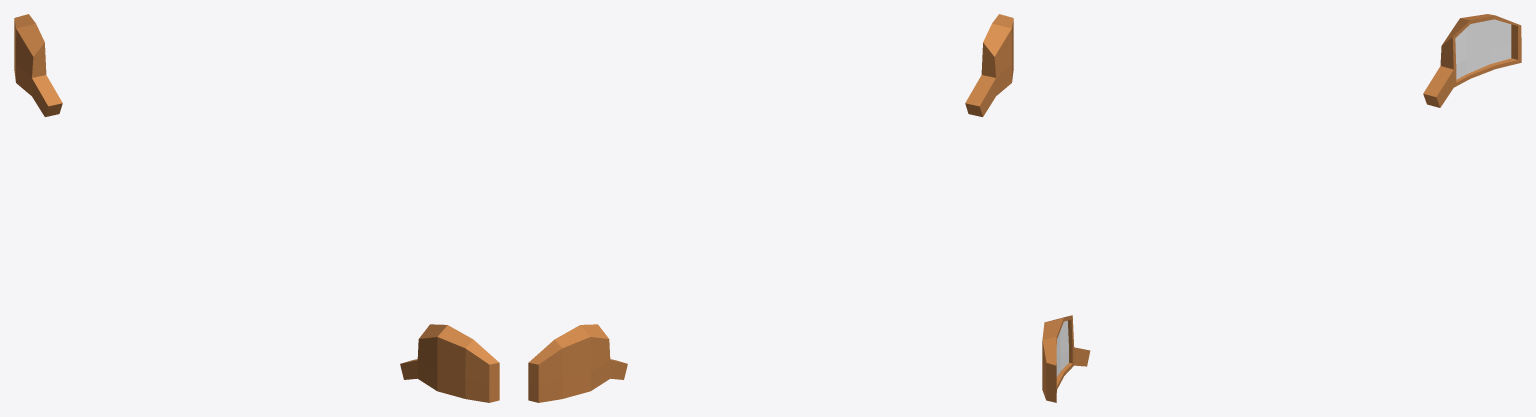
Rendered from peepoCarRearView.fbx.
The picture shows the model from 3 angles, left to right: view 1: azimuth 30°, elevation 25°; view 2: azimuth 150°, elevation 25°; view 3: azimuth 330°, elevation 25°; orthographic projection.
Visible parts, largest first — view 1: LeftRearView, RightRearView; view 2: RightRearView, LeftRearView; view 3: RightRearView, LeftRearView.
Boxes of the visible parts, x1,y1,x2,y2 form: LeftRearView: (400,324,499,402); RightRearView: (14,14,62,116); RightRearView: (528,324,627,402); LeftRearView: (965,14,1013,116); RightRearView: (1423,14,1521,107); LeftRearView: (1042,315,1090,402).
Size of the model in its own units: 11.66 by 19.5 by 237.
